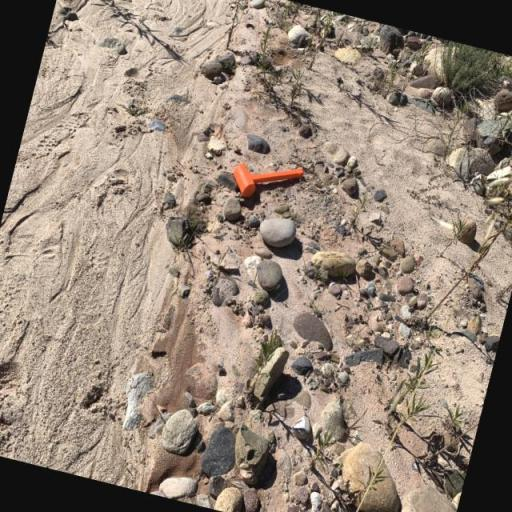mallet: (229, 152, 305, 209)
